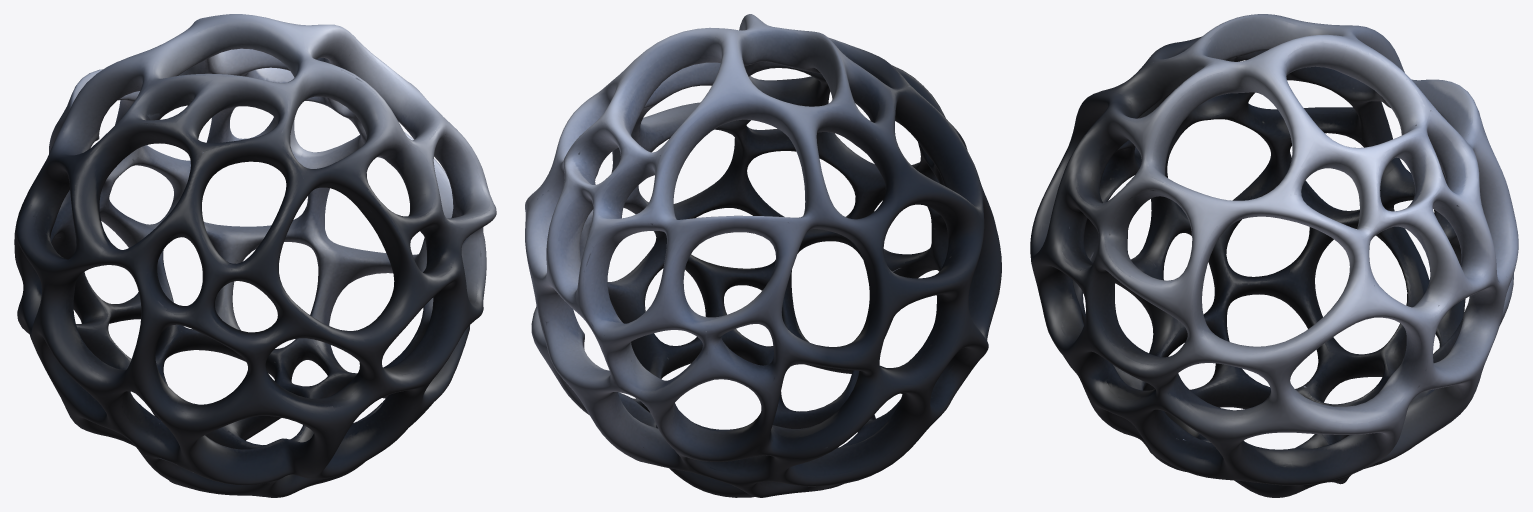
Rendered from abstract.gltf.
The picture shows the model from 3 angles, left to right: view 1: azimuth 30°, elevation 25°; view 2: azimuth 150°, elevation 25°; view 3: azimuth 270°, elevation 25°; orthographic projection.
Parts seen in each view (by area): view 1: VoronoiDyno.Bake; view 2: VoronoiDyno.Bake; view 3: VoronoiDyno.Bake.
Part boxes in pixels (bbox=[...]): VoronoiDyno.Bake: bbox=[14, 14, 496, 497]; VoronoiDyno.Bake: bbox=[525, 14, 1001, 497]; VoronoiDyno.Bake: bbox=[1030, 14, 1518, 497].
Size of the model in its own units: 187 by 190 by 185.
1 material, 1 textured.
